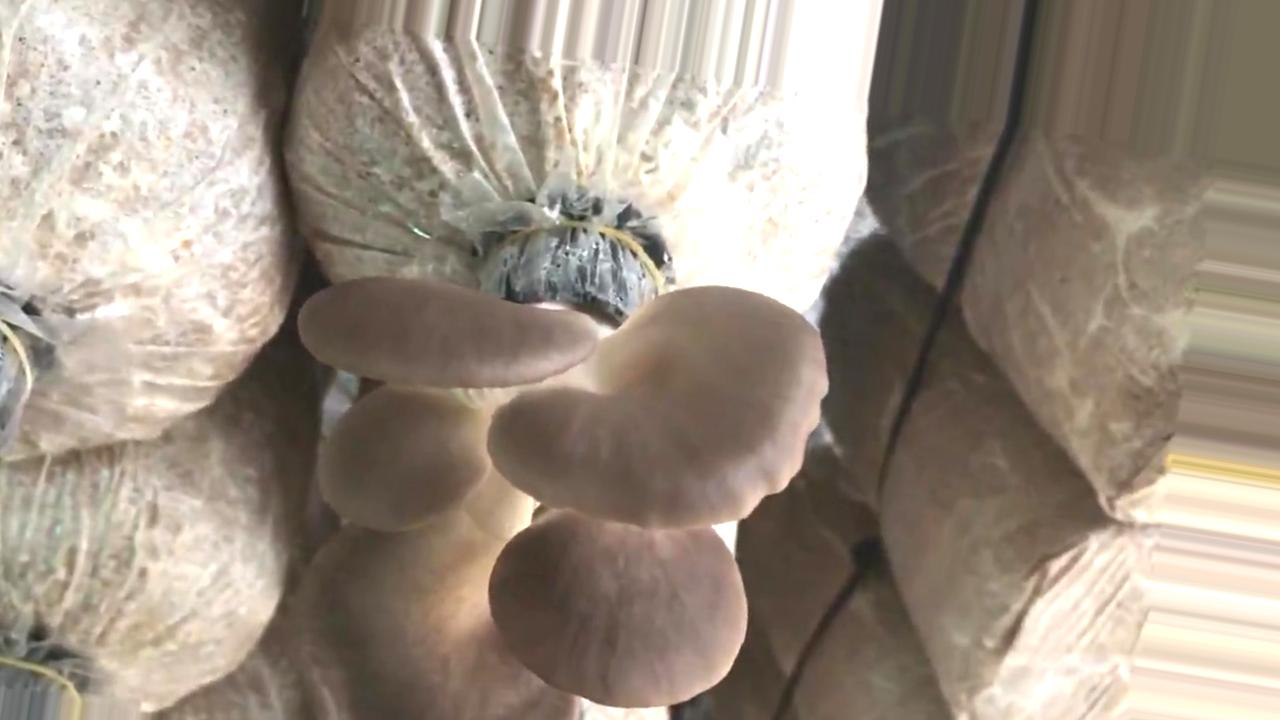nam: (298, 223, 821, 710)
